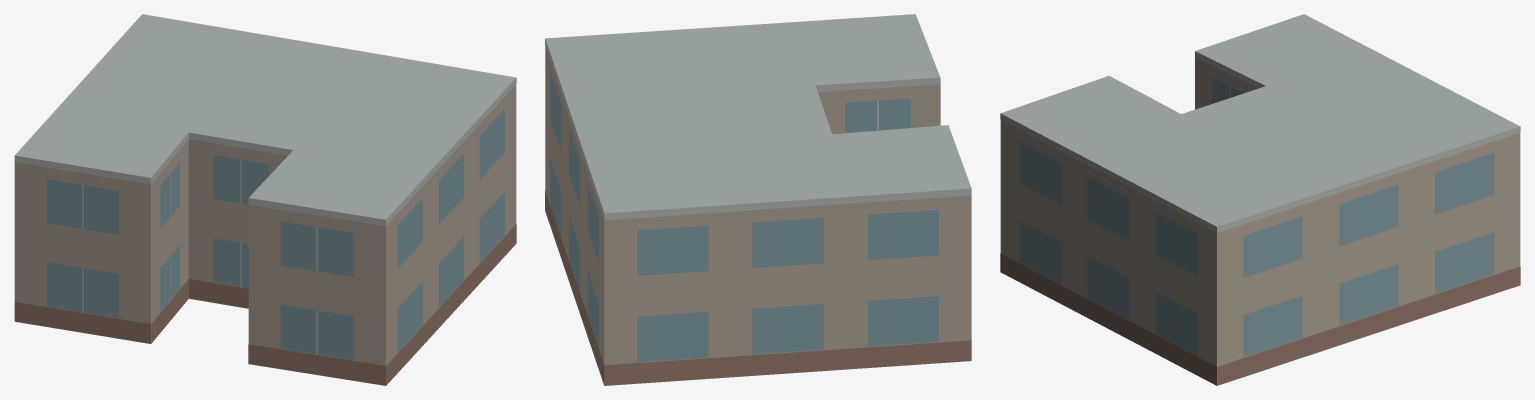
Rendered from survey-upis-32764775.glb.
The picture shows the model from 3 angles, left to right: view 1: azimuth 30°, elevation 25°; view 2: azimuth 150°, elevation 25°; view 3: azimuth 270°, elevation 25°; orthographic projection. The views are drawn at different scales.
Parts seen in each view (by area): view 1: survey-upis-32764775.tmp; view 2: survey-upis-32764775.tmp; view 3: survey-upis-32764775.tmp.
Boxes of the visible parts, left/top/right/bottom form: survey-upis-32764775.tmp: left=14, top=14, right=516, bottom=385; survey-upis-32764775.tmp: left=545, top=14, right=971, bottom=385; survey-upis-32764775.tmp: left=1000, top=14, right=1520, bottom=385.
Bounding box in the file's own units: 17.54 × 6.1 × 18.09.
